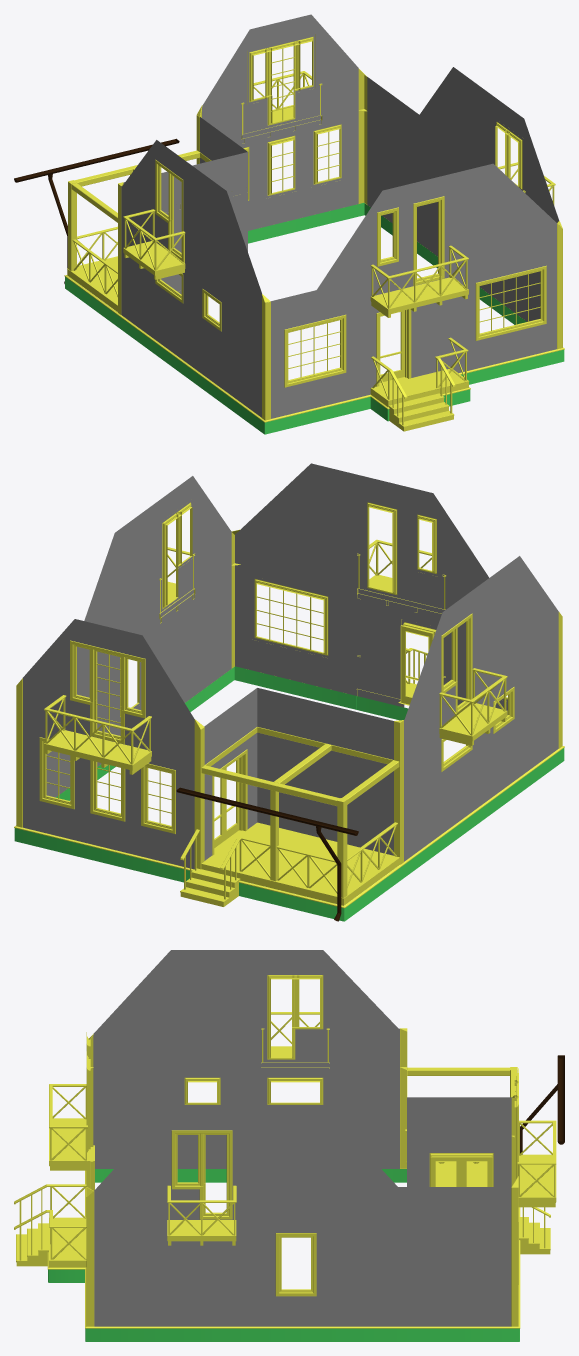
Rendered from walls.FBX.
The picture shows the model from 3 angles, top to bottom: view 1: azimuth 30°, elevation 25°; view 2: azimuth 150°, elevation 25°; view 3: azimuth 270°, elevation 25°; orthographic projection. The views are drawn at different scales.
Parts seen in each view (by area): view 1: walls; view 2: walls; view 3: walls.
Part boxes in pixels (bbox=[...]): walls: bbox=[14, 14, 564, 434]; walls: bbox=[14, 463, 564, 921]; walls: bbox=[14, 950, 564, 1341].
Bounding box in the file's own units: 1123 × 642 × 1373.
